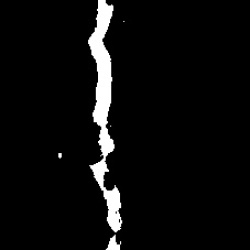crack: (87, 2, 123, 231), (106, 234, 121, 249), (58, 150, 63, 159)
